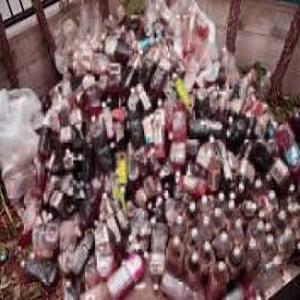Plastic: (106, 248, 151, 297)
